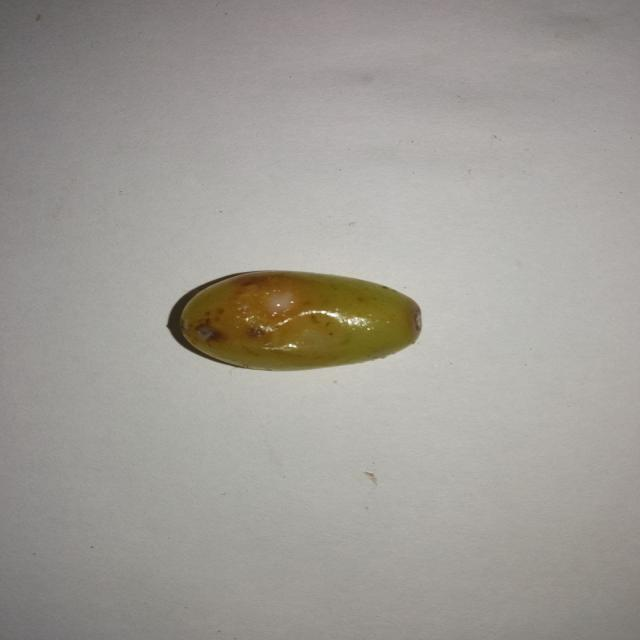rotten_grape: (174, 268, 423, 369)
